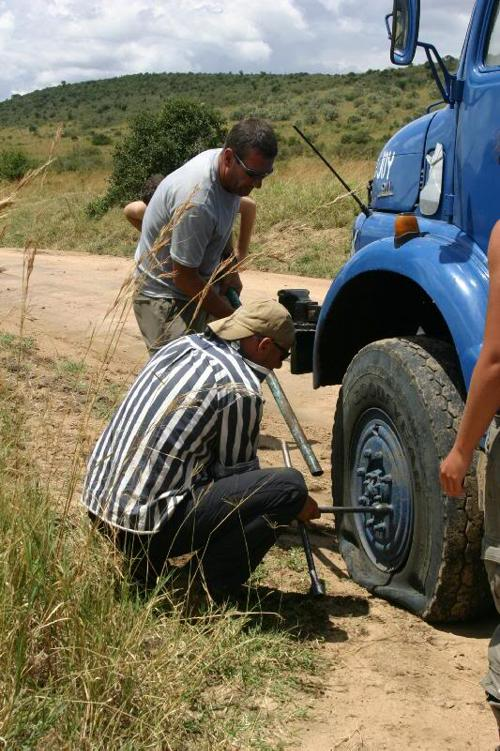person: (80, 291, 323, 610)
